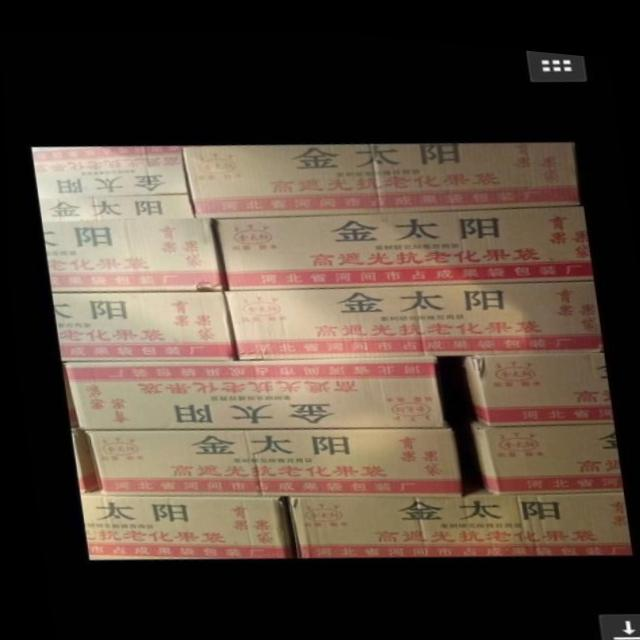box: (210, 195, 595, 286), (220, 269, 595, 356), (176, 133, 579, 213), (61, 347, 441, 426), (73, 419, 456, 491), (283, 478, 628, 551), (41, 211, 226, 291), (75, 490, 286, 555), (52, 288, 232, 360), (445, 340, 609, 415), (31, 144, 192, 220), (456, 410, 619, 484)
